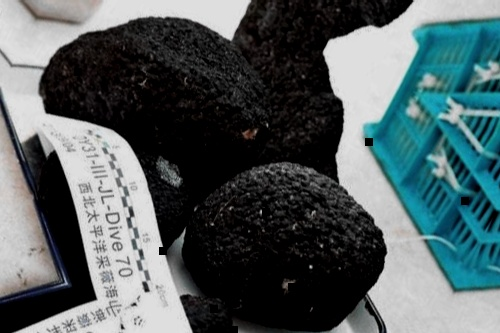halobolite: (163, 154, 388, 333), (46, 26, 261, 174), (201, 1, 371, 157), (163, 274, 242, 333)
